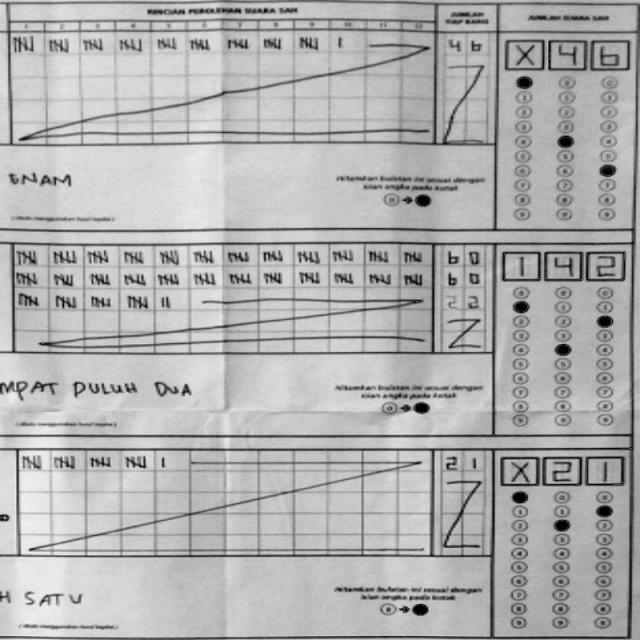Suara: (500, 246, 621, 283), (503, 35, 626, 70), (496, 454, 622, 488)
